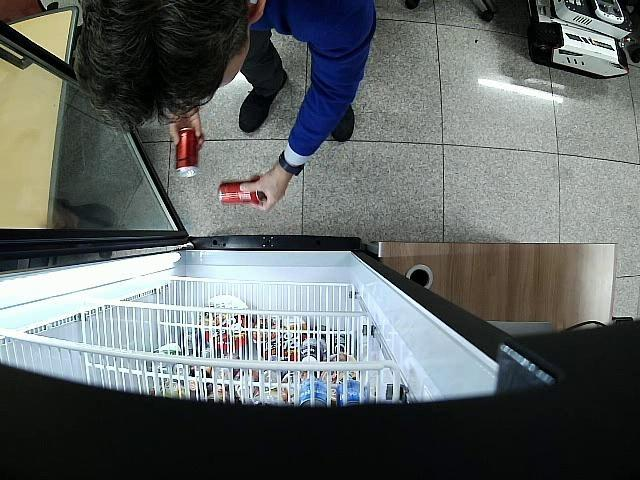11_cocaColaZero: (175, 127, 200, 178), (218, 182, 268, 204)
